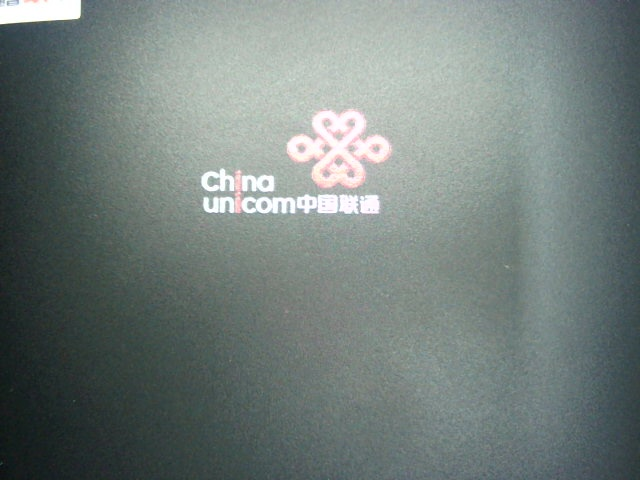AC_ChinaUnicom: (188, 105, 396, 227)
